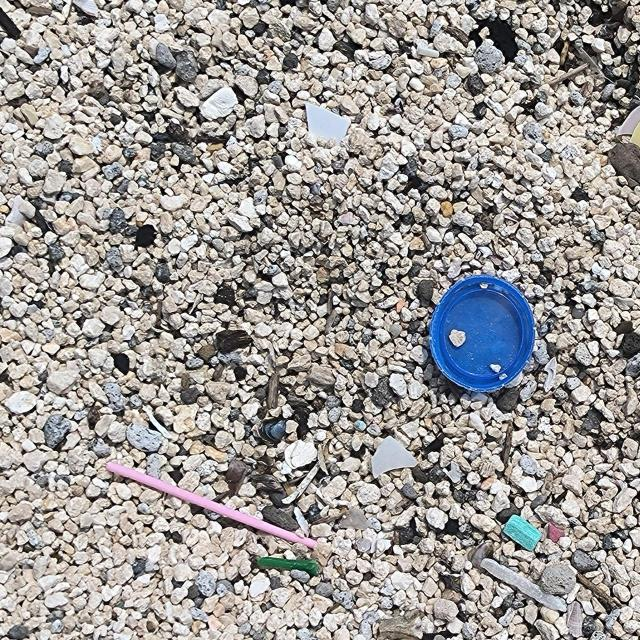plastic_waste: (109, 461, 323, 550), (430, 274, 539, 393)
